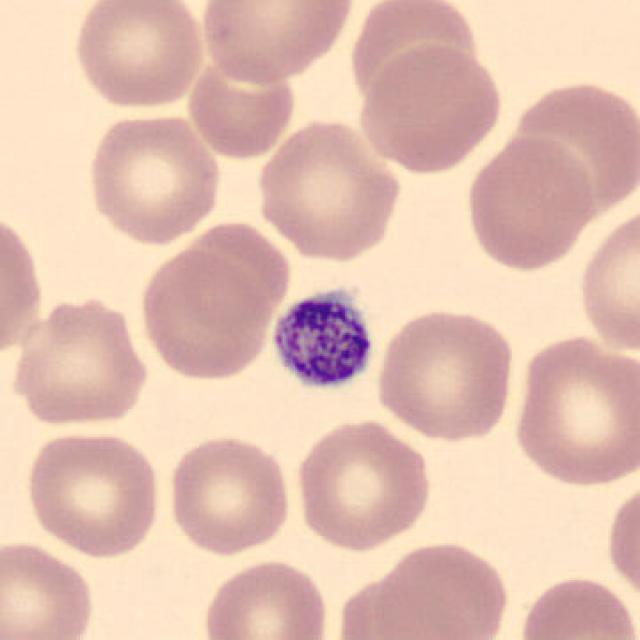Platelets: (265, 280, 380, 397)
RBC: (252, 115, 403, 262), (508, 331, 638, 492), (5, 291, 153, 430), (356, 40, 506, 176), (292, 414, 436, 554), (373, 305, 518, 444), (82, 107, 224, 247), (460, 130, 598, 274), (135, 245, 274, 384), (21, 427, 166, 559), (505, 76, 636, 222), (164, 430, 295, 559), (69, 0, 208, 113), (343, 0, 485, 109), (368, 536, 514, 640), (196, 0, 359, 85), (183, 49, 301, 164), (198, 555, 332, 640), (0, 536, 100, 640), (574, 201, 638, 356), (514, 571, 638, 640), (0, 205, 48, 366), (604, 474, 640, 610)
